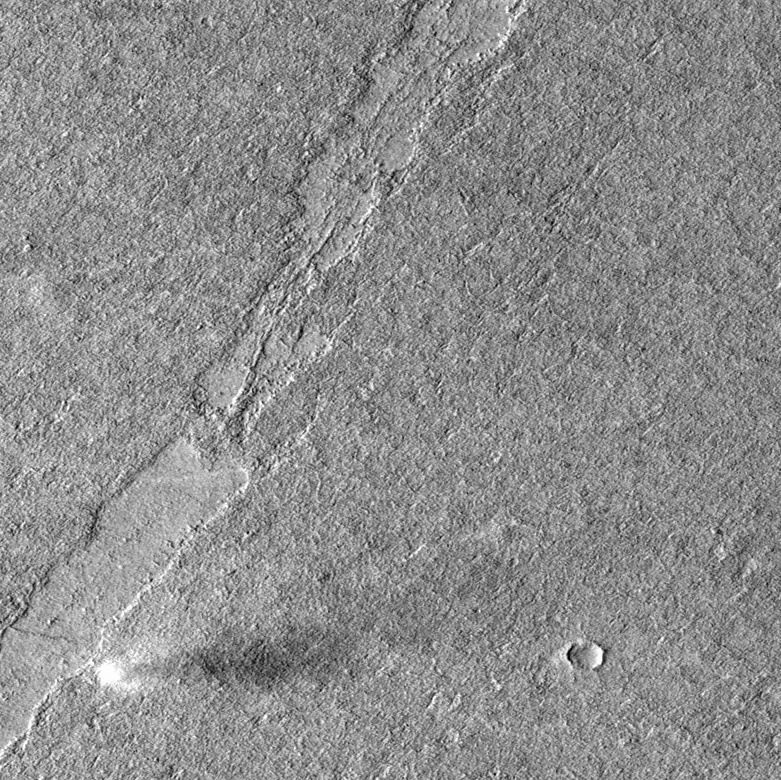dust_devil: (91, 622, 333, 698)
